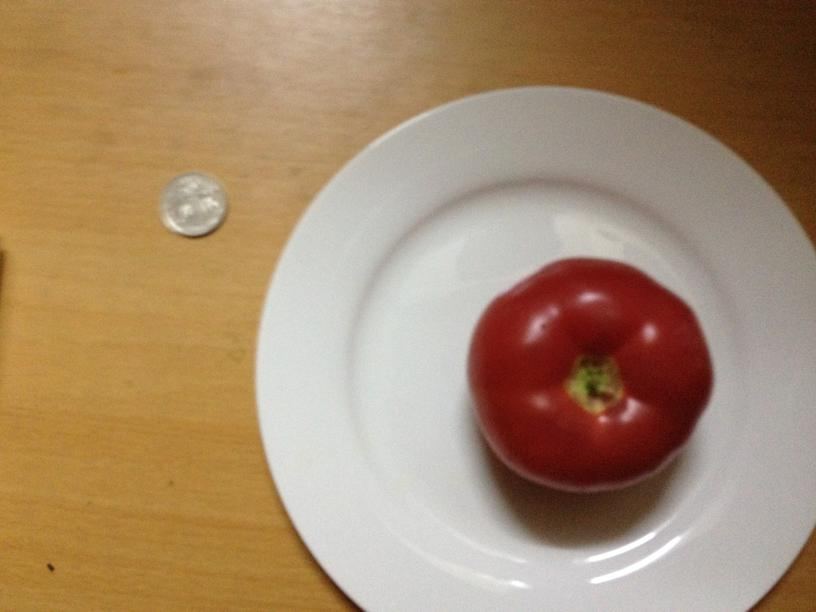coin: (157, 175, 226, 238)
tomato: (469, 257, 716, 492)
